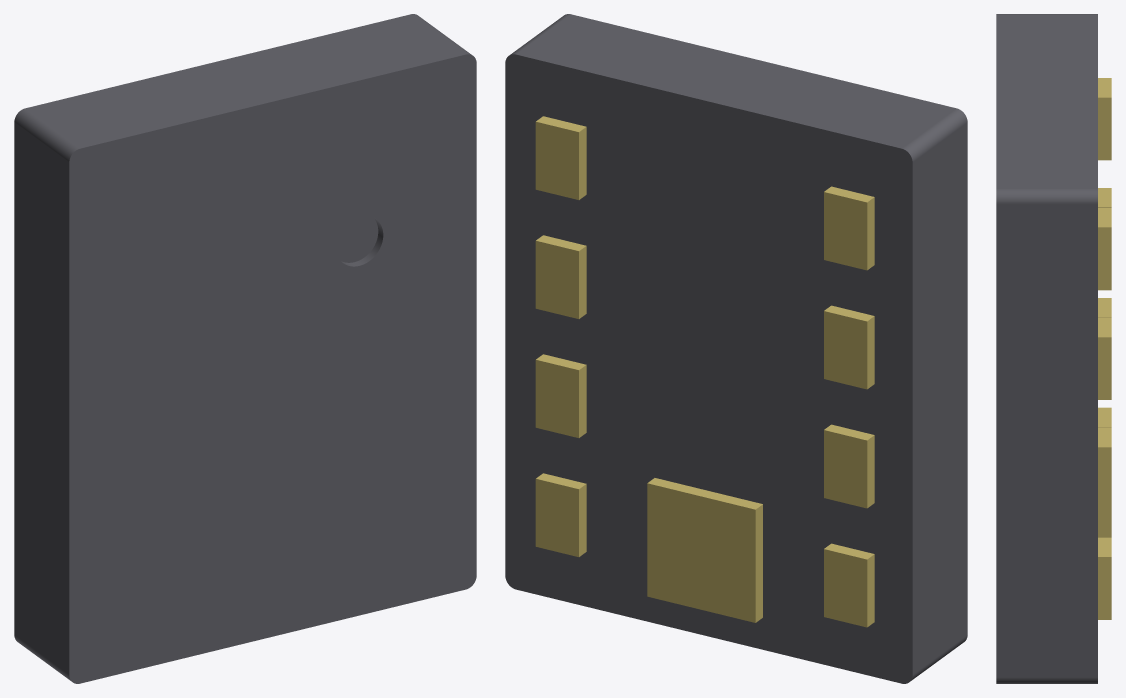
The model's file is inmp441.glb.
3 views of the same model, side by side, from view 1: azimuth 30°, elevation 25°; view 2: azimuth 150°, elevation 25°; view 3: azimuth 270°, elevation 25° (orthographic). The views are drawn at different scales.
Parts seen in each view (by area): view 1: extra; view 2: extra, pins; view 3: extra, pins.
Part boxes in pixels (left/top/right/bottom): extra: left=14, top=14, right=476, bottom=683; extra: left=505, top=14, right=967, bottom=683; pins: left=535, top=116, right=874, bottom=627; extra: left=996, top=14, right=1097, bottom=683; pins: left=1098, top=78, right=1111, bottom=619.
Bounding box in the file's own units: 3.76 × 4.72 × 1.
